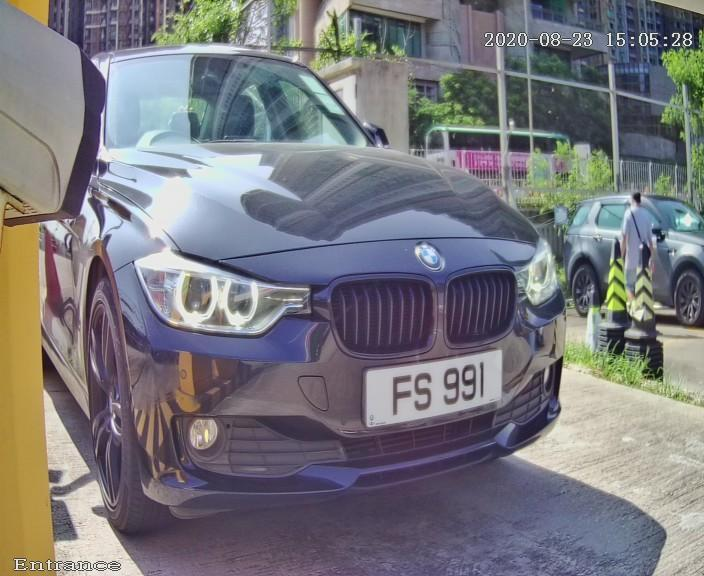Car: (19, 13, 610, 551)
License Plate: (344, 324, 529, 443)
